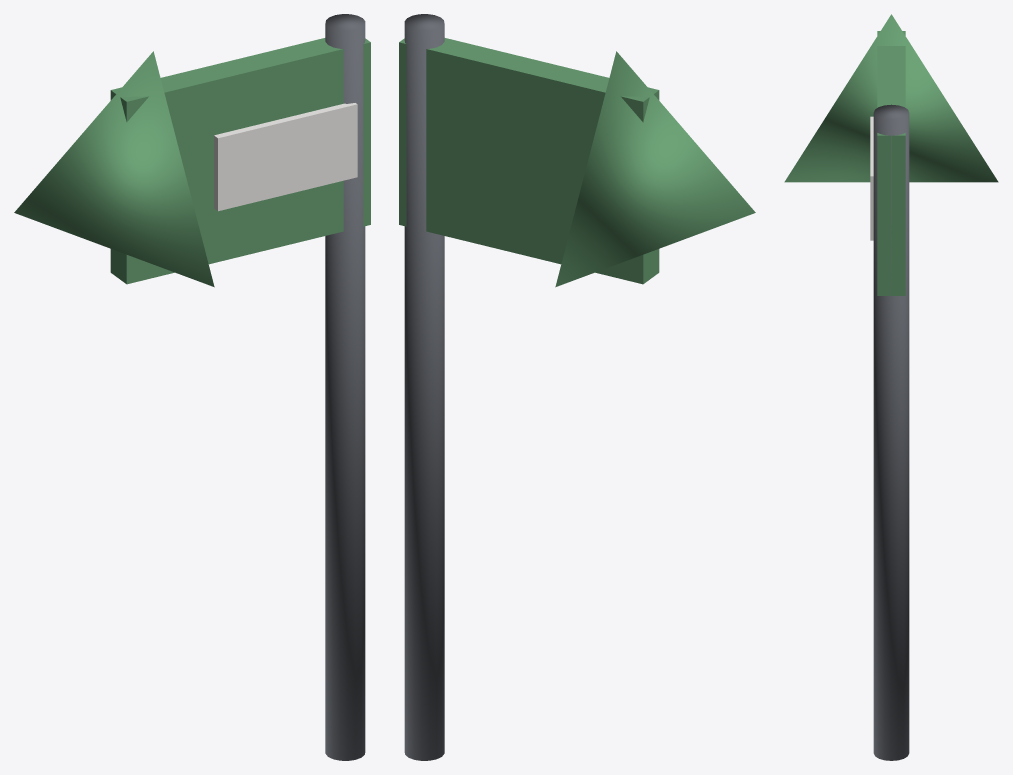
File: prop_tate_arrow_green.glb
The picture shows the model from 3 angles, left to right: view 1: azimuth 30°, elevation 25°; view 2: azimuth 150°, elevation 25°; view 3: azimuth 270°, elevation 25°; orthographic projection. The views are drawn at different scales.
Visible parts, largest first — view 1: tate_arrow_green; view 2: tate_arrow_green; view 3: tate_arrow_green.
Boxes of the visible parts, box(x1,y1,x2,y2) form: tate_arrow_green: box(14, 14, 370, 760); tate_arrow_green: box(399, 14, 755, 760); tate_arrow_green: box(784, 14, 998, 760).
Size of the model in its own units: 1 by 2.05 by 0.6062.
